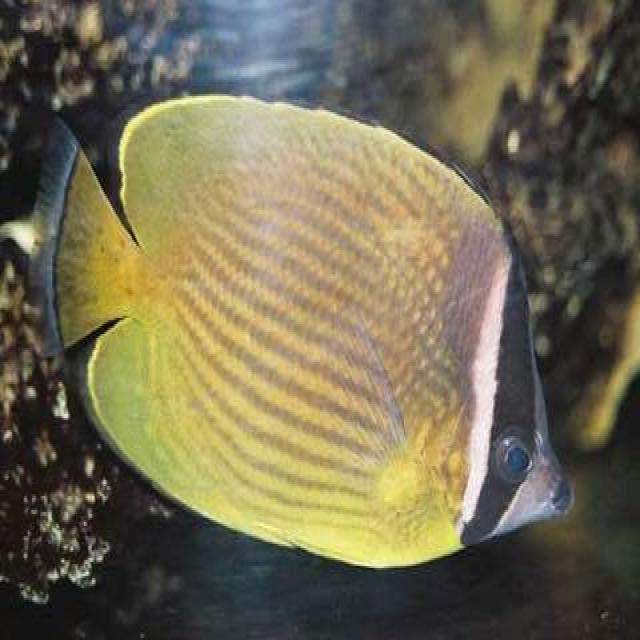ButterflyFish: (44, 80, 575, 570)
